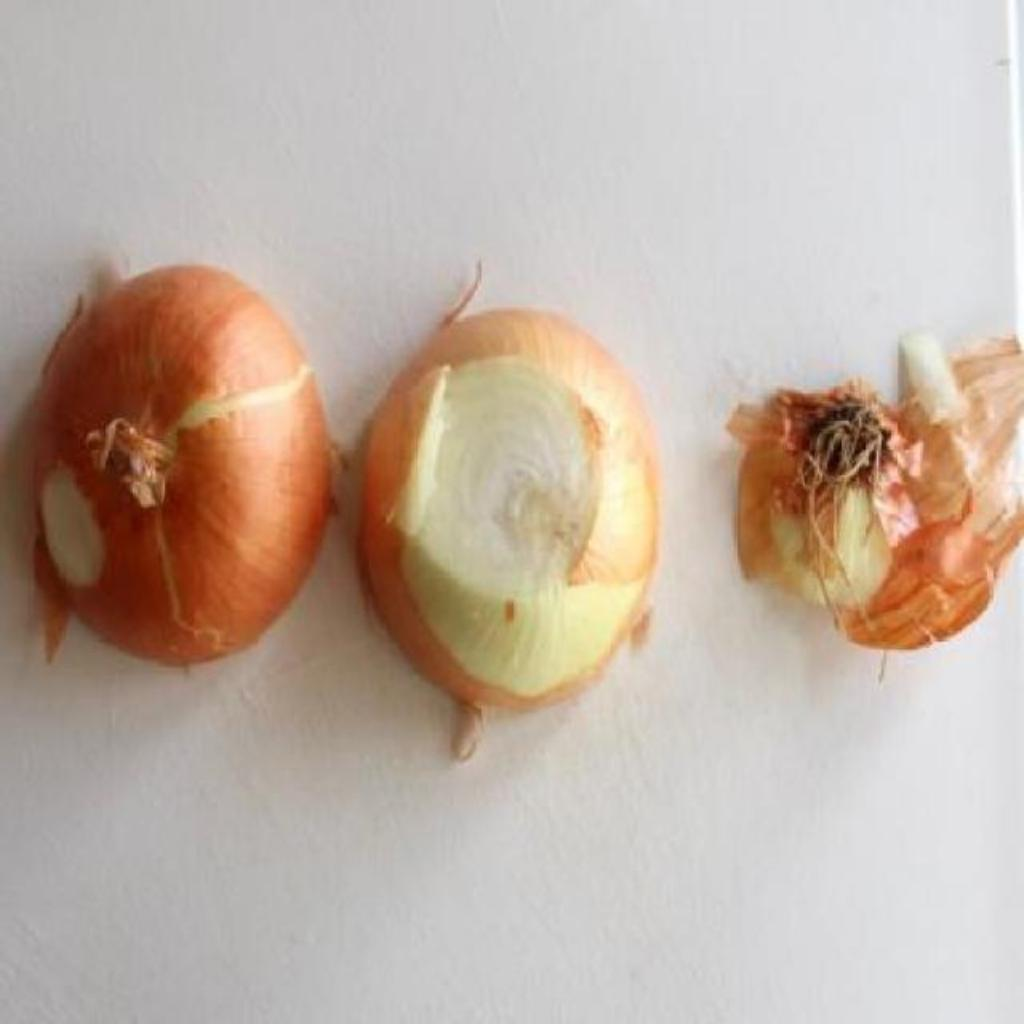Onion: (32, 266, 333, 666)
